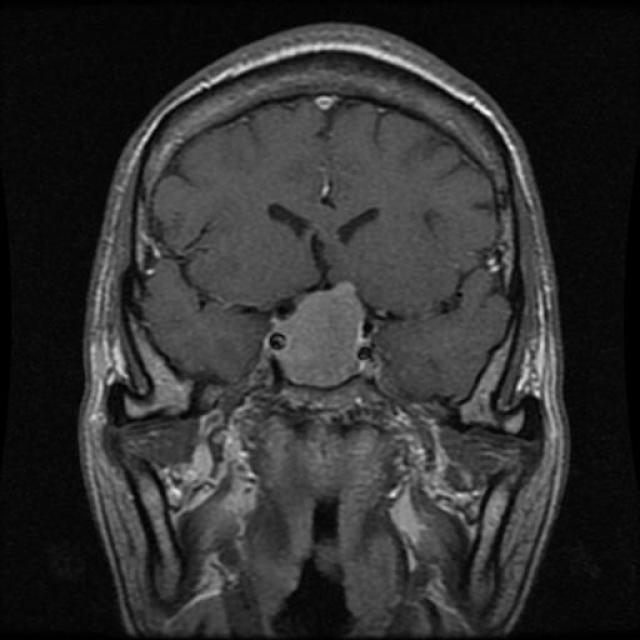pituitary: (257, 278, 378, 420)
